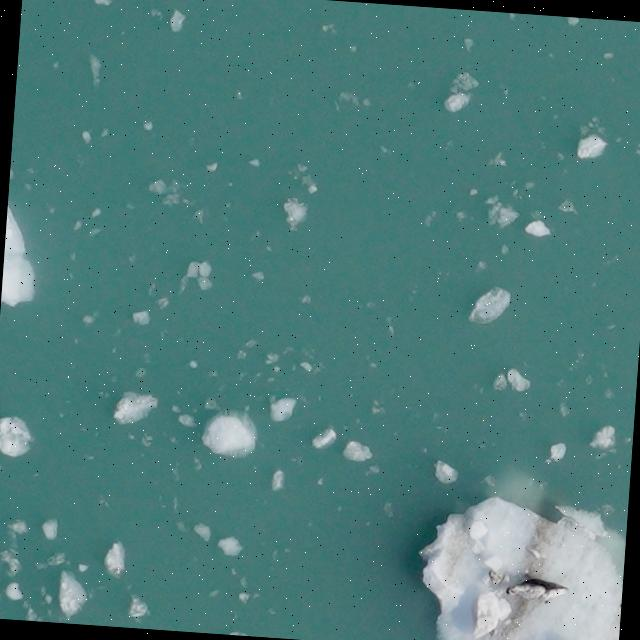seal: (499, 571, 574, 611)
